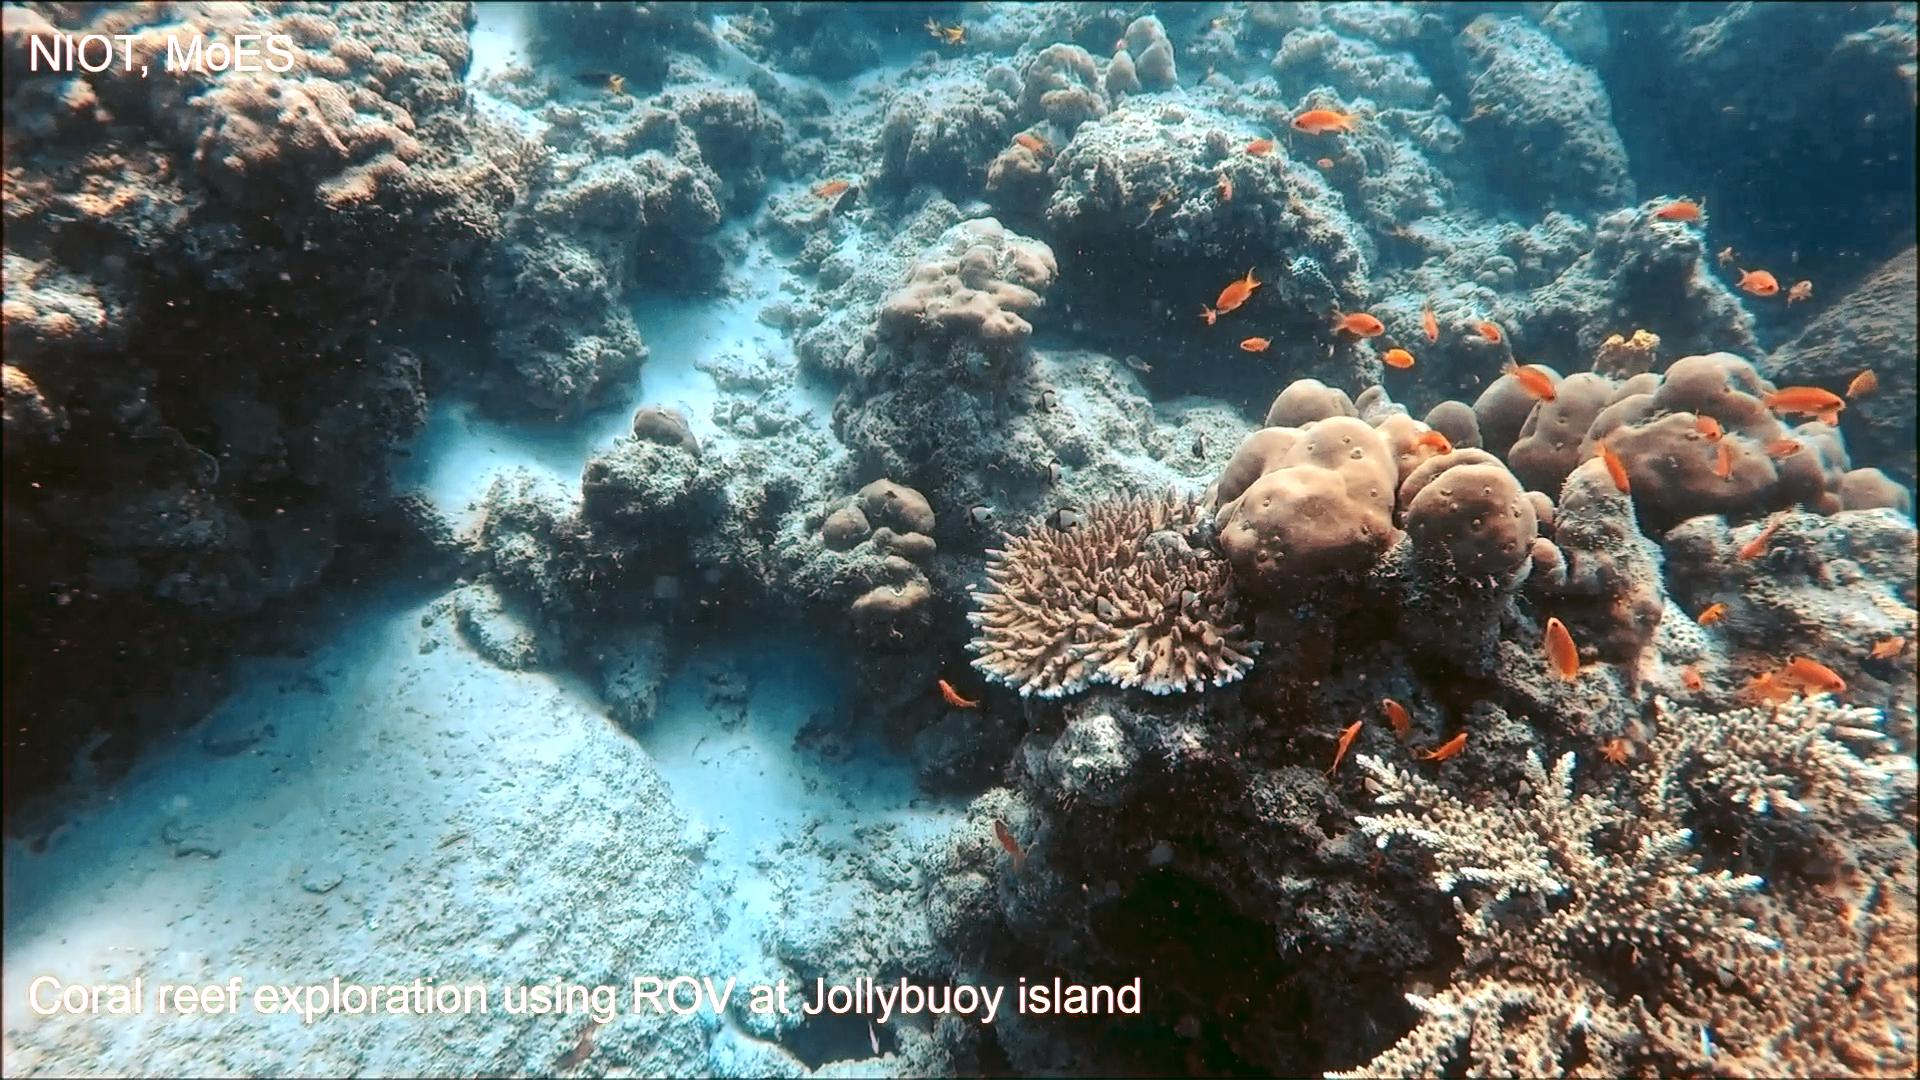Porites-Porites pukoensis: (1457, 344, 1920, 520), (1205, 371, 1544, 608)
